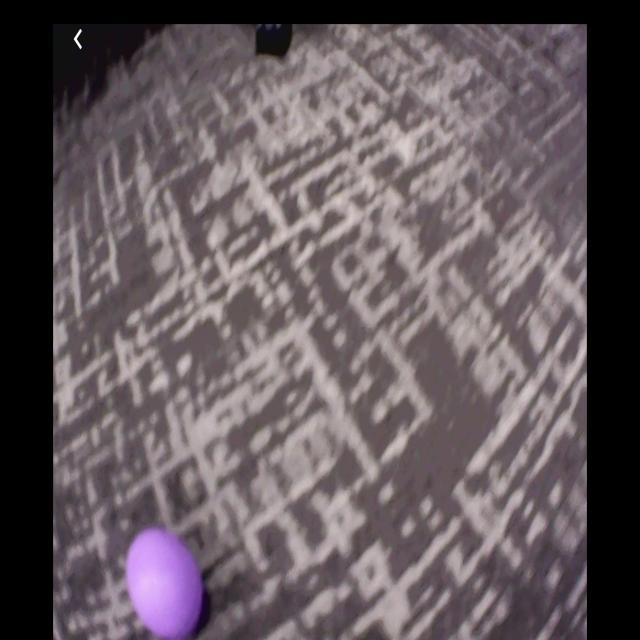ball: (127, 532, 203, 640)
